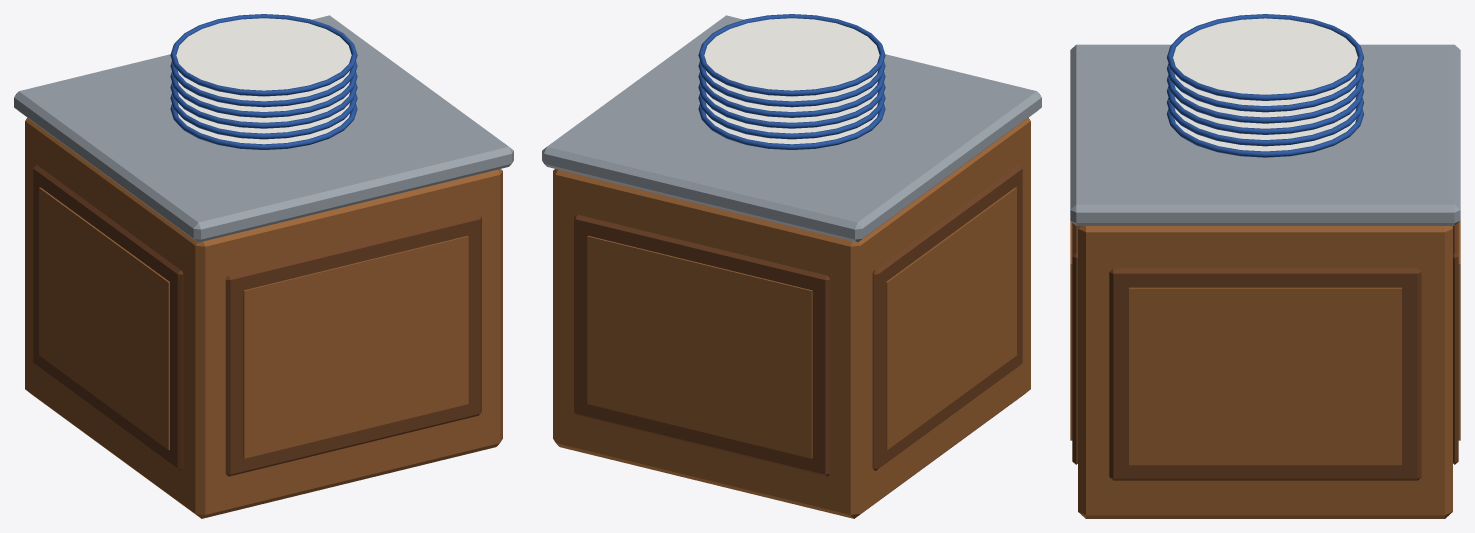
Rendered from counter_plates.glb.
3 renders of one model, left to right at view 1: azimuth 30°, elevation 25°; view 2: azimuth 150°, elevation 25°; view 3: azimuth 270°, elevation 25°, orthographic. The views are drawn at different scales.
Visible parts, largest first — view 1: counter_plates; view 2: counter_plates; view 3: counter_plates.
Boxes of the visible parts, x1=… form: counter_plates: x1=14, y1=14, x2=513, y2=518; counter_plates: x1=542, y1=14, x2=1041, y2=518; counter_plates: x1=1070, y1=14, x2=1460, y2=518.
Bounding box in the file's own units: 1 × 1.1 × 1.
